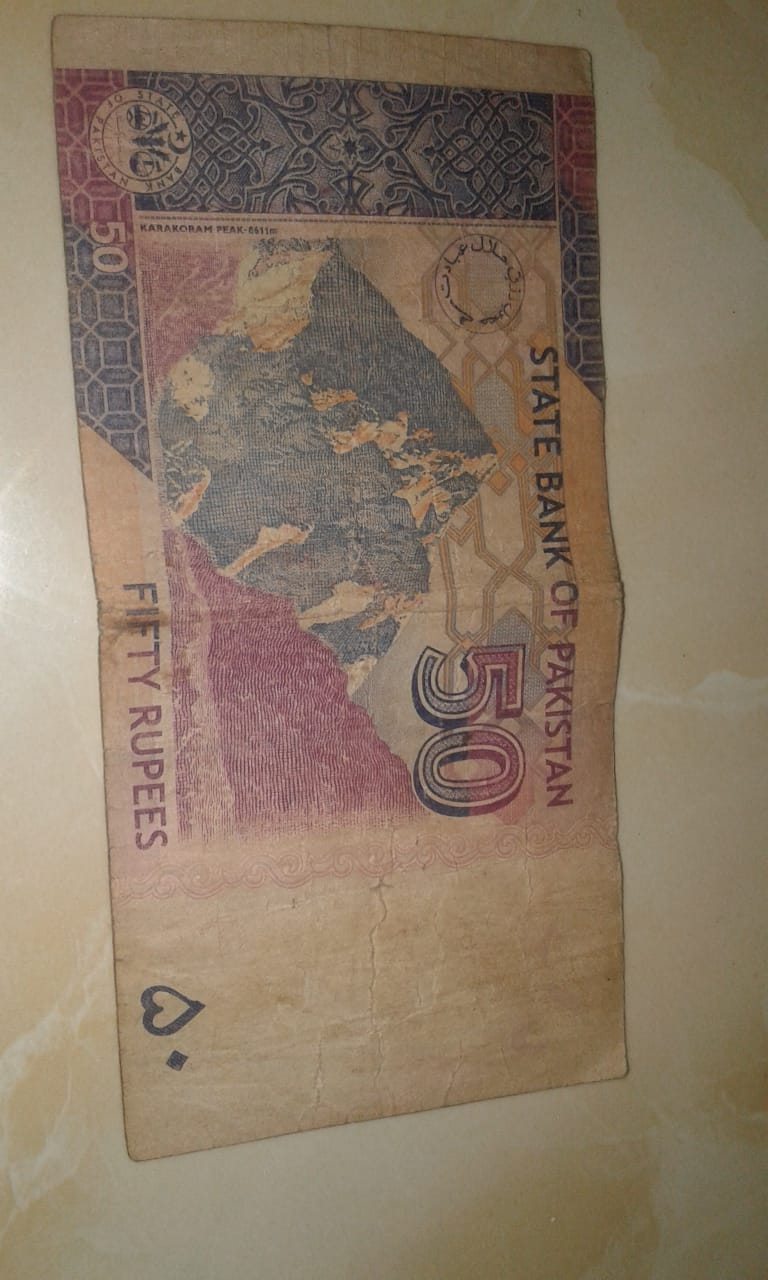50 rupee: (33, 19, 645, 1160)
